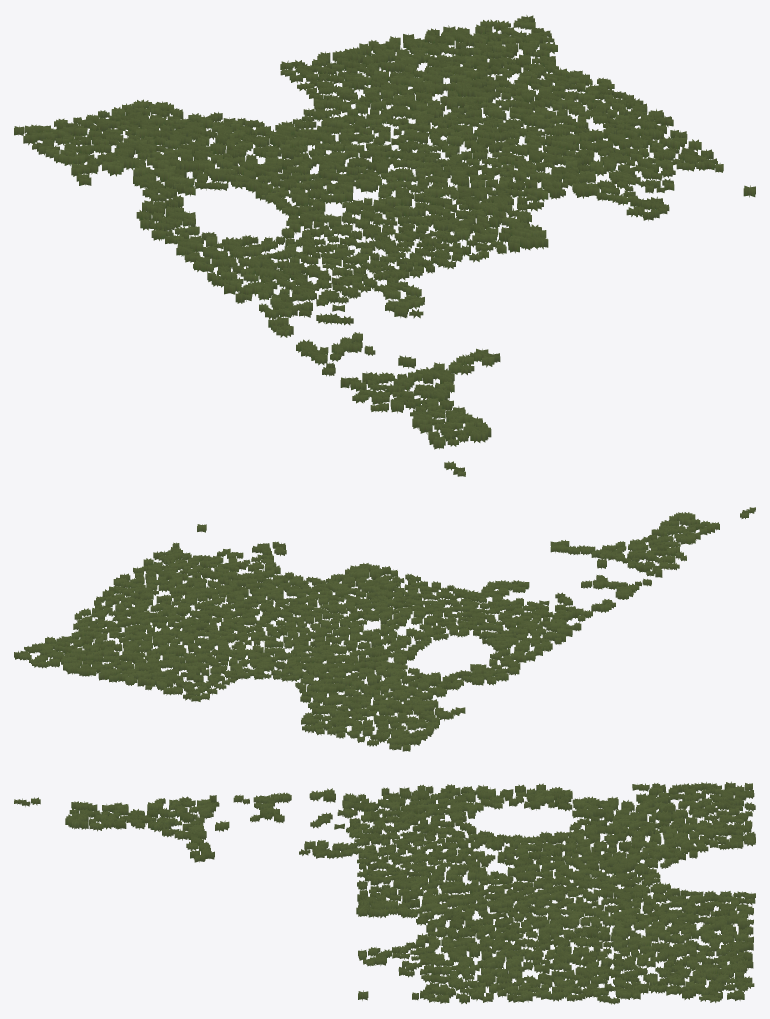
File: TRB8-GRASS-CHUNK-7-4.glb
3 renders of one model, top to bottom at view 1: azimuth 30°, elevation 25°; view 2: azimuth 150°, elevation 25°; view 3: azimuth 270°, elevation 25°, orthographic. The views are drawn at different scales.
Visible parts, largest first — view 1: TRB8-GRASS-CHUNK-7-4; view 2: TRB8-GRASS-CHUNK-7-4; view 3: TRB8-GRASS-CHUNK-7-4.
Part boxes in pixels (<box>): TRB8-GRASS-CHUNK-7-4: <box>14,15,755,476</box>; TRB8-GRASS-CHUNK-7-4: <box>14,507,755,751</box>; TRB8-GRASS-CHUNK-7-4: <box>14,781,755,1004</box>.
Size of the model in its own units: 25.69 by 1.29 by 38.47.
Materials: 1 (1 with a texture image).
